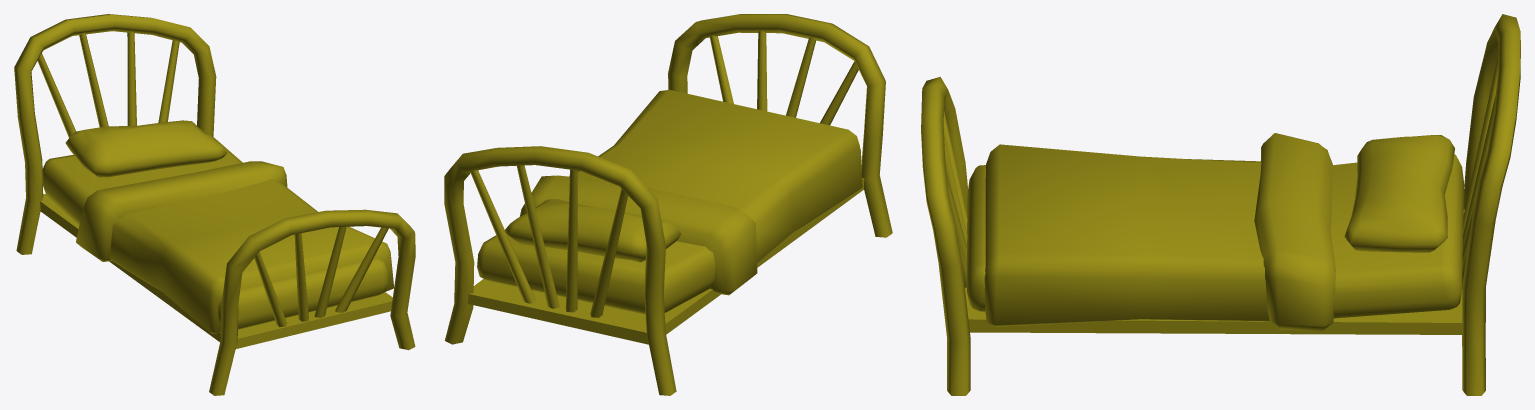
File: Bed.FBX
3 views of the same model, side by side, from view 1: azimuth 30°, elevation 25°; view 2: azimuth 150°, elevation 25°; view 3: azimuth 270°, elevation 25° (orthographic). The views are drawn at different scales.
Visible parts, largest first — view 1: Bed; view 2: Bed; view 3: Bed.
Part boxes in pixels (box(x1,y1,x2,y2)): Bed: box(14, 14, 415, 395); Bed: box(444, 14, 892, 395); Bed: box(921, 14, 1520, 395).
Size of the model in its own units: 150 by 148 by 289.
